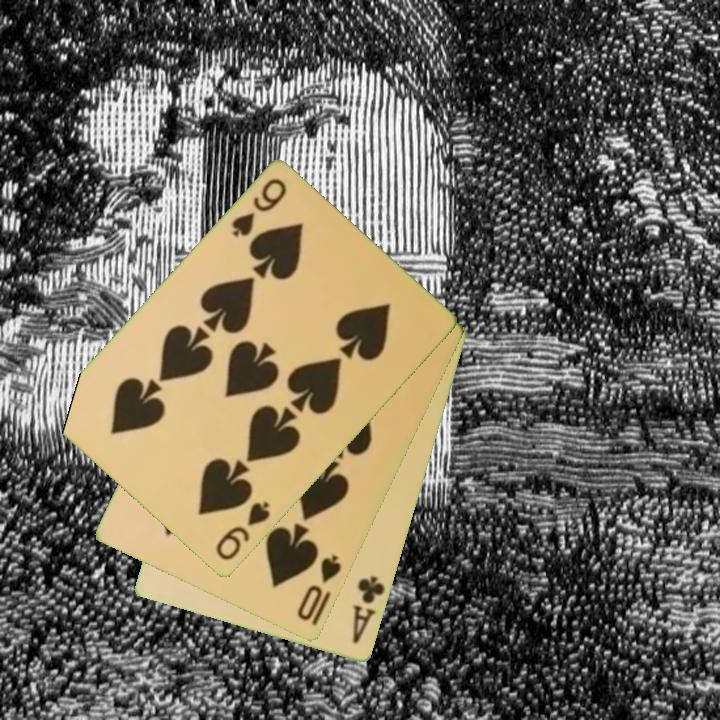10s: (293, 552, 345, 624)
9s: (228, 175, 290, 241), (212, 498, 273, 565)
Ac: (349, 572, 388, 648)
